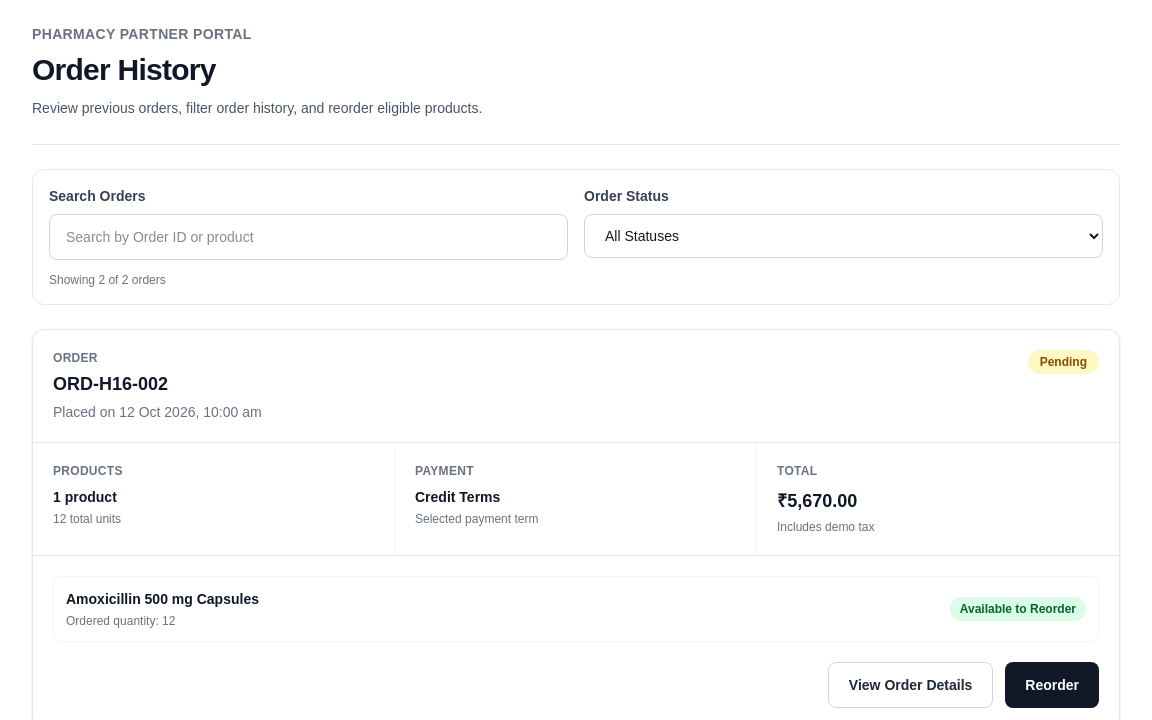
Test: Order History and Reorder Integration › filters orders by search and status
This screenshot has width=1152, height=720.
Expected: the heading "Order History" is shown, [32,53,216,86]
Type "Amoxicillin" into the search field labelled "Search Orders" at (308, 237), box [49,214,568,260]
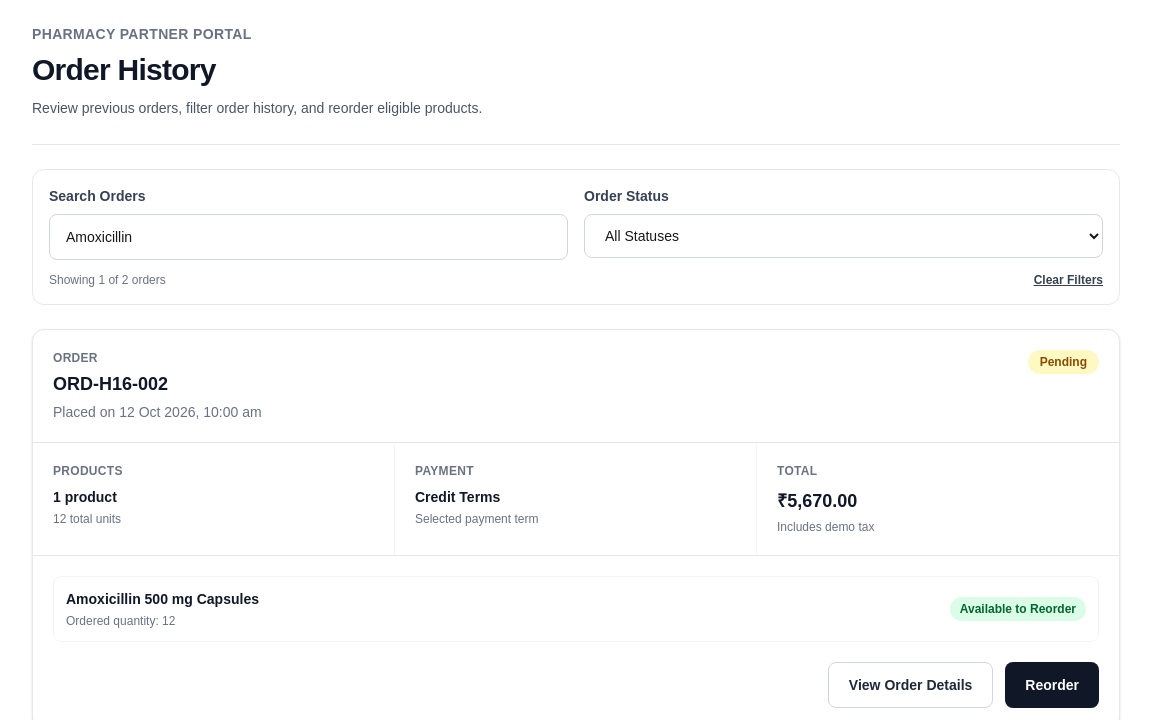
Expected: the heading "ORD-H16-002" is shown, [53,374,168,394]
Expected: the text "Showing 1 of 2 orders" is shown, [49,272,166,288]
Clear the search field labelled "Search Orders" at (308, 237), box [49,214,568,260]
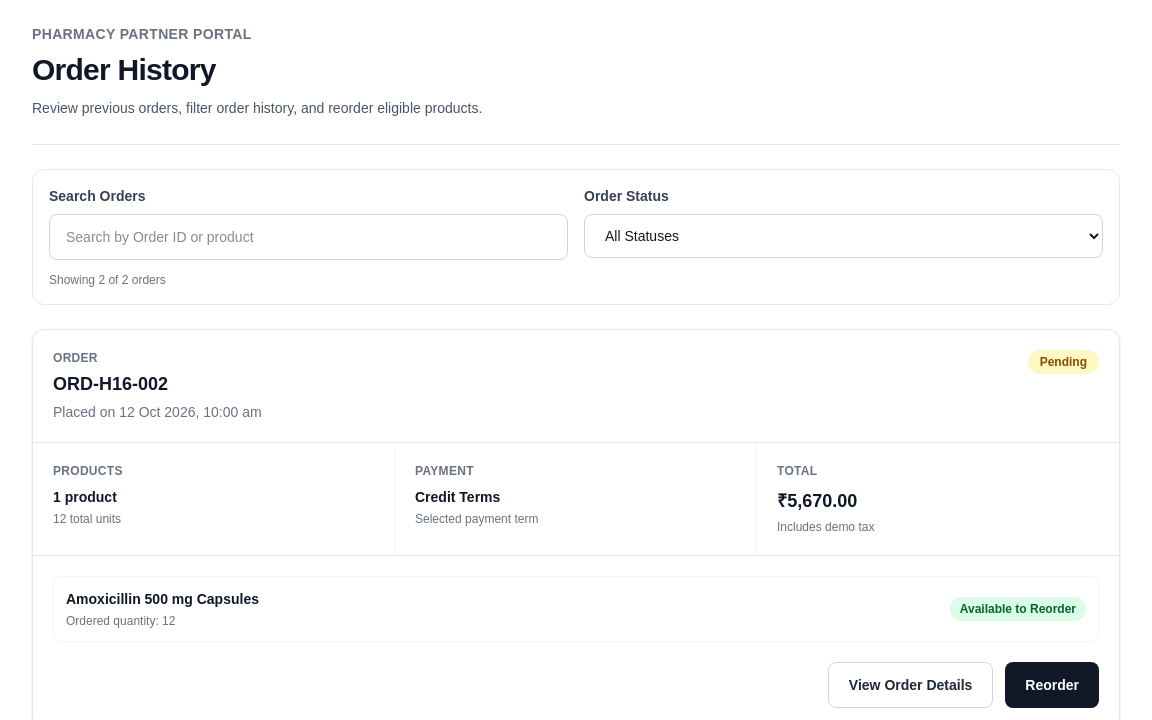
Select "Delivered" in the dropdown labelled "Order Status" at (844, 236), box [584,214,1103,258]
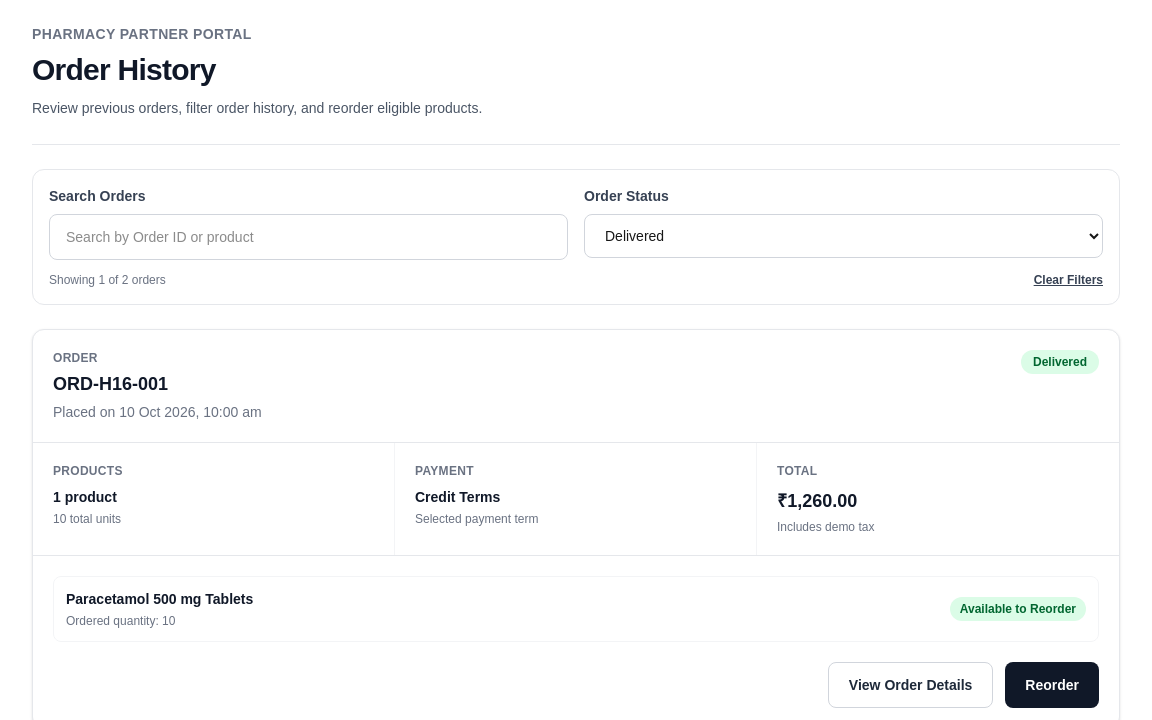
Expected: the heading "ORD-H16-001" is shown, [53,374,168,394]
Expected: the heading "ORD-H16-002" is gone
